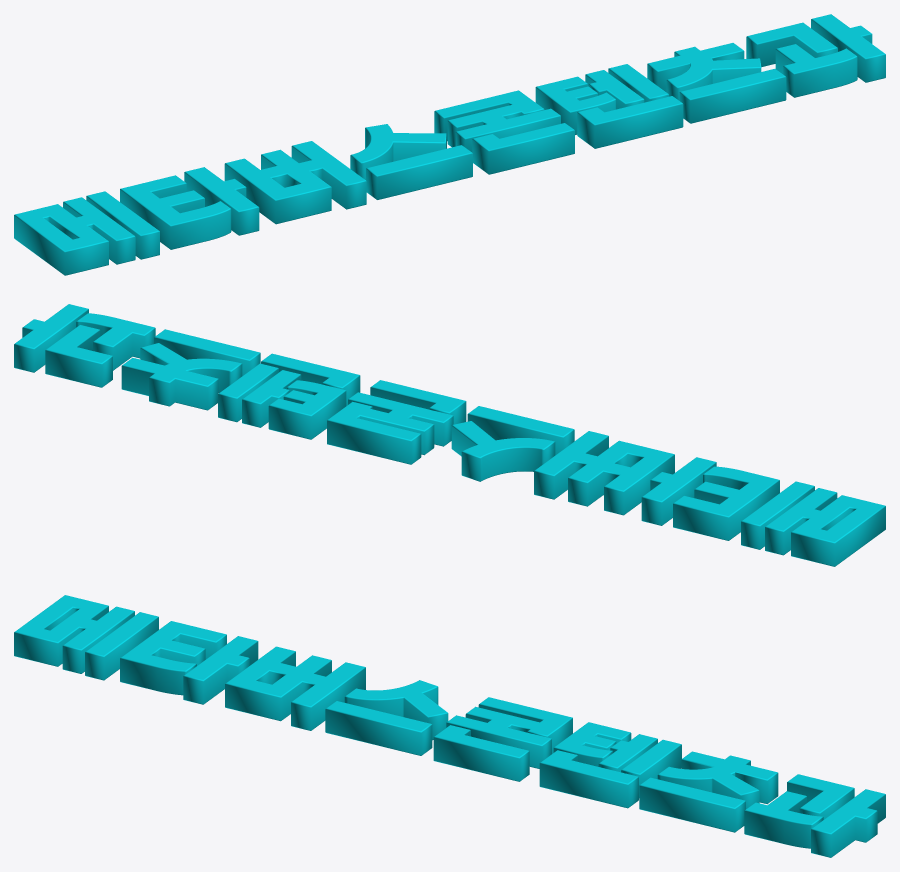
Rendered from MetaversContent.fbx.
3 views of the same model, one above another, from view 1: azimuth 30°, elevation 25°; view 2: azimuth 150°, elevation 25°; view 3: azimuth 330°, elevation 25° (orthographic).
Parts seen in each view (by area): view 1: Object; view 2: Object; view 3: Object.
Part boxes in pixels (box(x1,y1,x2,y2)): Object: box(14, 14, 885, 275); Object: box(14, 304, 885, 566); Object: box(14, 595, 885, 857).
Size of the model in its own units: 843 by 24 by 97.4.
